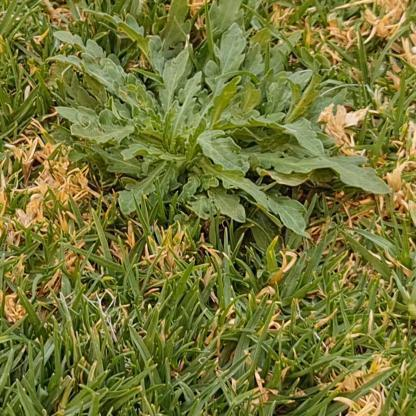Weeds: (42, 0, 392, 241)
